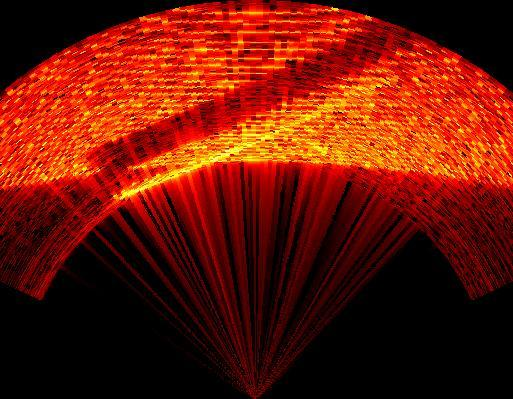pipe: (80, 20, 438, 200)
